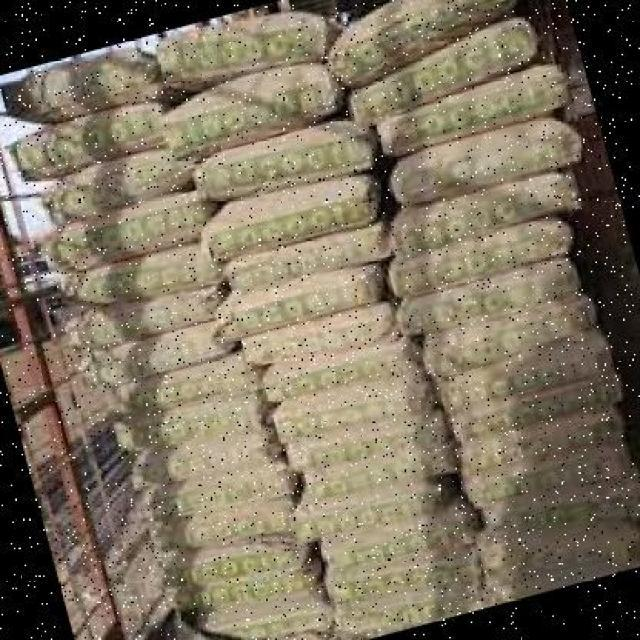gunny_bag: (349, 15, 544, 121), (161, 57, 348, 158), (387, 112, 583, 208), (196, 165, 387, 261), (377, 68, 569, 163), (377, 174, 580, 260), (391, 210, 570, 300), (43, 184, 215, 272), (393, 254, 580, 334), (327, 0, 511, 80), (161, 17, 341, 94), (428, 292, 587, 379), (460, 430, 629, 510), (44, 141, 203, 225), (444, 331, 600, 416), (316, 503, 475, 585), (198, 124, 379, 196), (6, 53, 161, 133), (12, 102, 166, 181), (273, 366, 435, 440), (283, 404, 454, 473), (219, 262, 380, 335), (454, 372, 613, 445), (471, 470, 640, 538), (318, 543, 486, 610), (101, 345, 266, 413), (134, 455, 291, 526), (224, 221, 392, 286), (305, 472, 455, 543), (271, 331, 418, 403), (476, 516, 640, 580), (78, 321, 233, 388), (306, 433, 459, 500), (139, 490, 299, 554), (69, 281, 221, 348), (119, 386, 264, 456), (239, 300, 395, 363), (71, 242, 221, 307), (456, 412, 614, 472), (165, 562, 317, 624), (146, 533, 302, 589), (134, 428, 274, 486)
